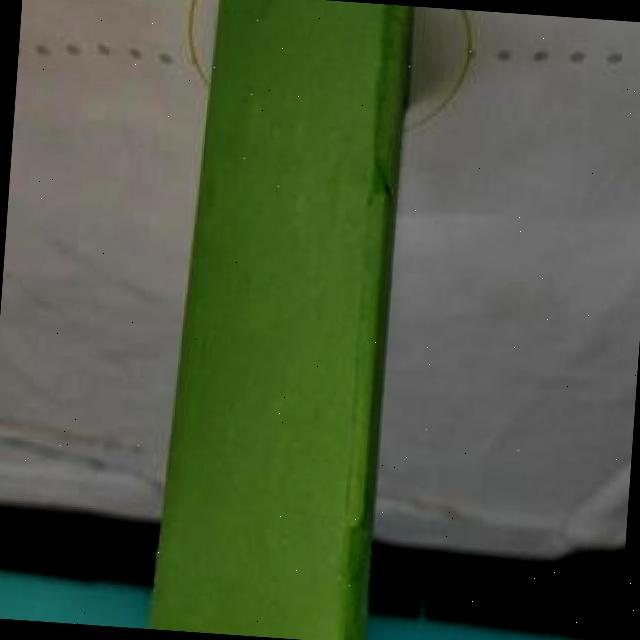greenbox: (145, 0, 417, 640)
